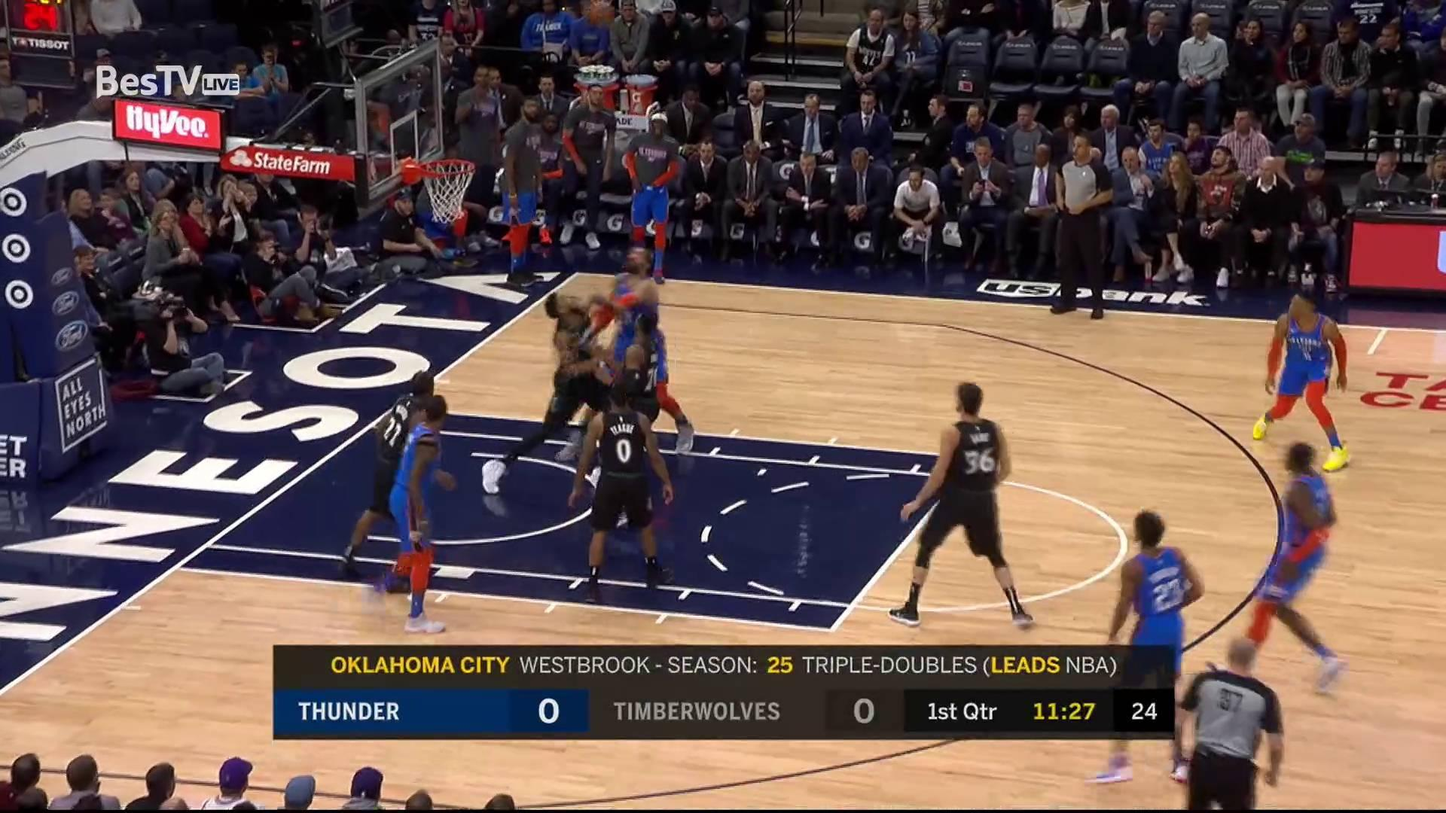basketball: (587, 1, 614, 26)
